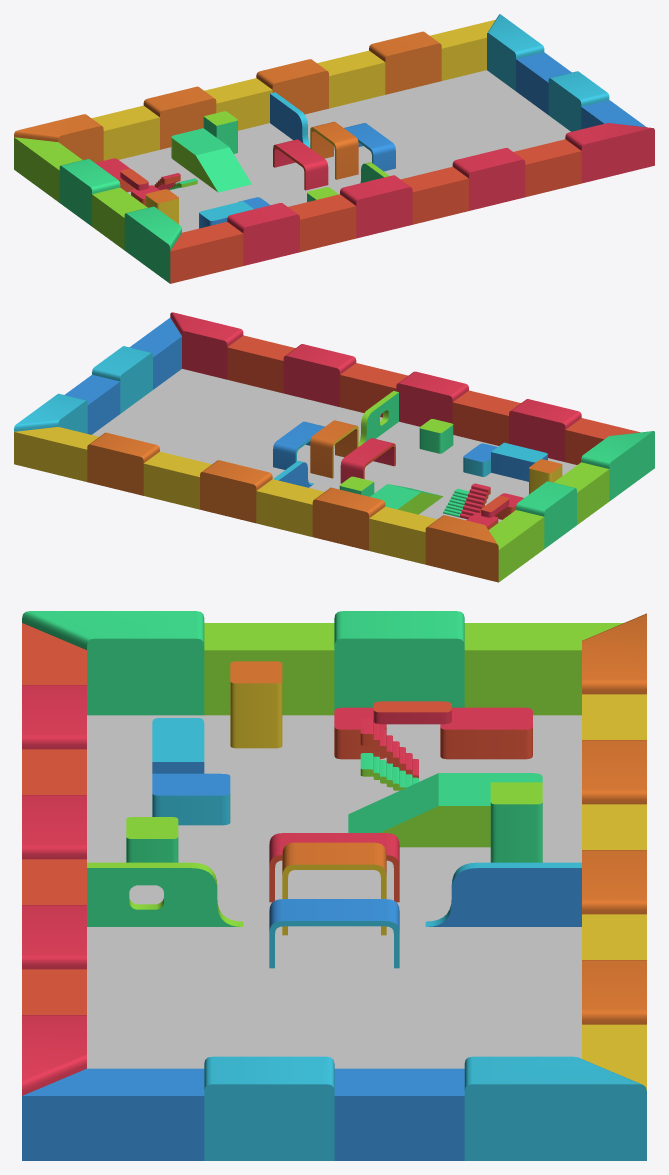
Rendered from Level.FBX.
3 views of the same model, one above another, from view 1: azimuth 30°, elevation 25°; view 2: azimuth 150°, elevation 25°; view 3: azimuth 270°, elevation 25° (orthographic). The views are drawn at different scales.
Visible parts, largest first — view 1: Walls, Floor, Archway2, Block8, Archway1, Block9, CenterWall1, Archway3, Block10, Block3, Block4, Block7 (+1 smaller); view 2: Walls, Floor, Archway2, Archway1, Block3, CenterWall2, Archway3, Block1, Block9, Block2, Block4, Stairway2 (+4 smaller); view 3: Walls, Floor, CenterWall1, CenterWall2, Block7, Block4, Block9, Block10, Block8, Archway3, Block2, Archway2 (+7 smaller).
Boxes of the visible parts, left/top/right/bottom form: Walls: left=14, top=14, right=654, bottom=283; Floor: left=119, top=70, right=570, bottom=232; Archway2: left=310, top=121, right=358, bottom=179; Block8: left=195, top=147, right=251, bottom=192; Archway1: left=273, top=139, right=328, bottom=190; Block9: left=171, top=128, right=228, bottom=175; CenterWall1: left=270, top=92, right=310, bottom=147; Archway3: left=344, top=123, right=395, bottom=171; Block10: left=203, top=111, right=237, bottom=153; Block3: left=199, top=201, right=253, bottom=228; Block4: left=145, top=189, right=178, bottom=224; Block7: left=95, top=158, right=134, bottom=192; Walls: left=14, top=312, right=654, bottom=582; Floor: left=92, top=369, right=576, bottom=522; Archway2: left=310, top=420, right=358, bottom=478; Archway1: left=340, top=438, right=395, bottom=483; Block3: left=491, top=442, right=547, bottom=481; CenterWall2: left=358, top=391, right=398, bottom=446; Archway3: left=273, top=421, right=324, bottom=469; Block1: left=419, top=419, right=453, bottom=453; Block9: left=370, top=484, right=421, bottom=514; Block2: left=463, top=443, right=497, bottom=476; Block4: left=529, top=459, right=562, bottom=494; Stairway2: left=460, top=483, right=490, bottom=519; Walls: left=22, top=611, right=646, bottom=1160; Floor: left=87, top=715, right=581, bottom=1068; CenterWall1: left=425, top=862, right=581, bottom=926; CenterWall2: left=87, top=862, right=243, bottom=926; Block7: left=440, top=707, right=532, bottom=759; Block4: left=230, top=661, right=282, bottom=748; Block9: left=438, top=773, right=542, bottom=847; Block10: left=490, top=782, right=542, bottom=862; Block8: left=348, top=773, right=438, bottom=847; Archway3: left=269, top=899, right=399, bottom=968; Block2: left=152, top=773, right=230, bottom=825; Archway2: left=282, top=842, right=386, bottom=935.
Size of the model in its own units: 1693 by 128 by 945.
